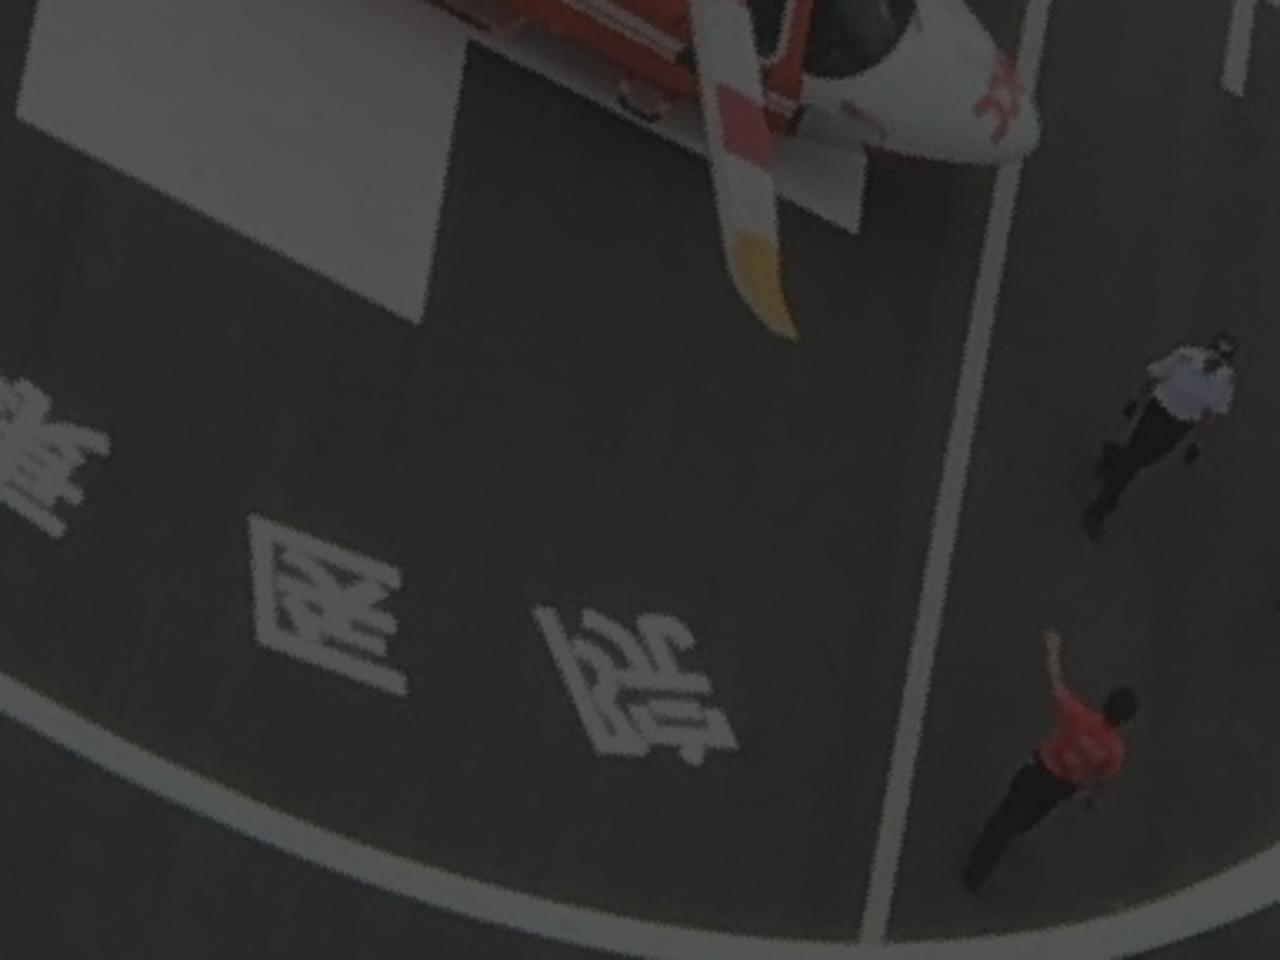Apron: (1, 1, 1042, 339)
